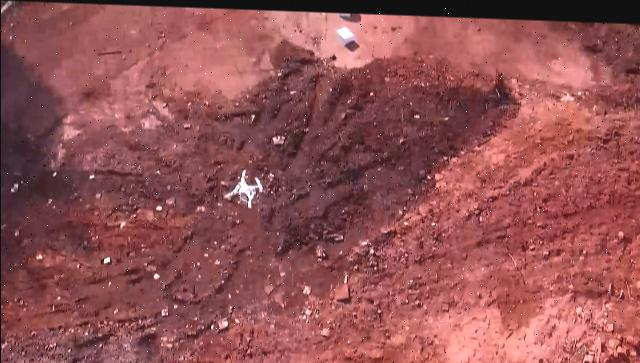drone: (222, 163, 266, 207)
